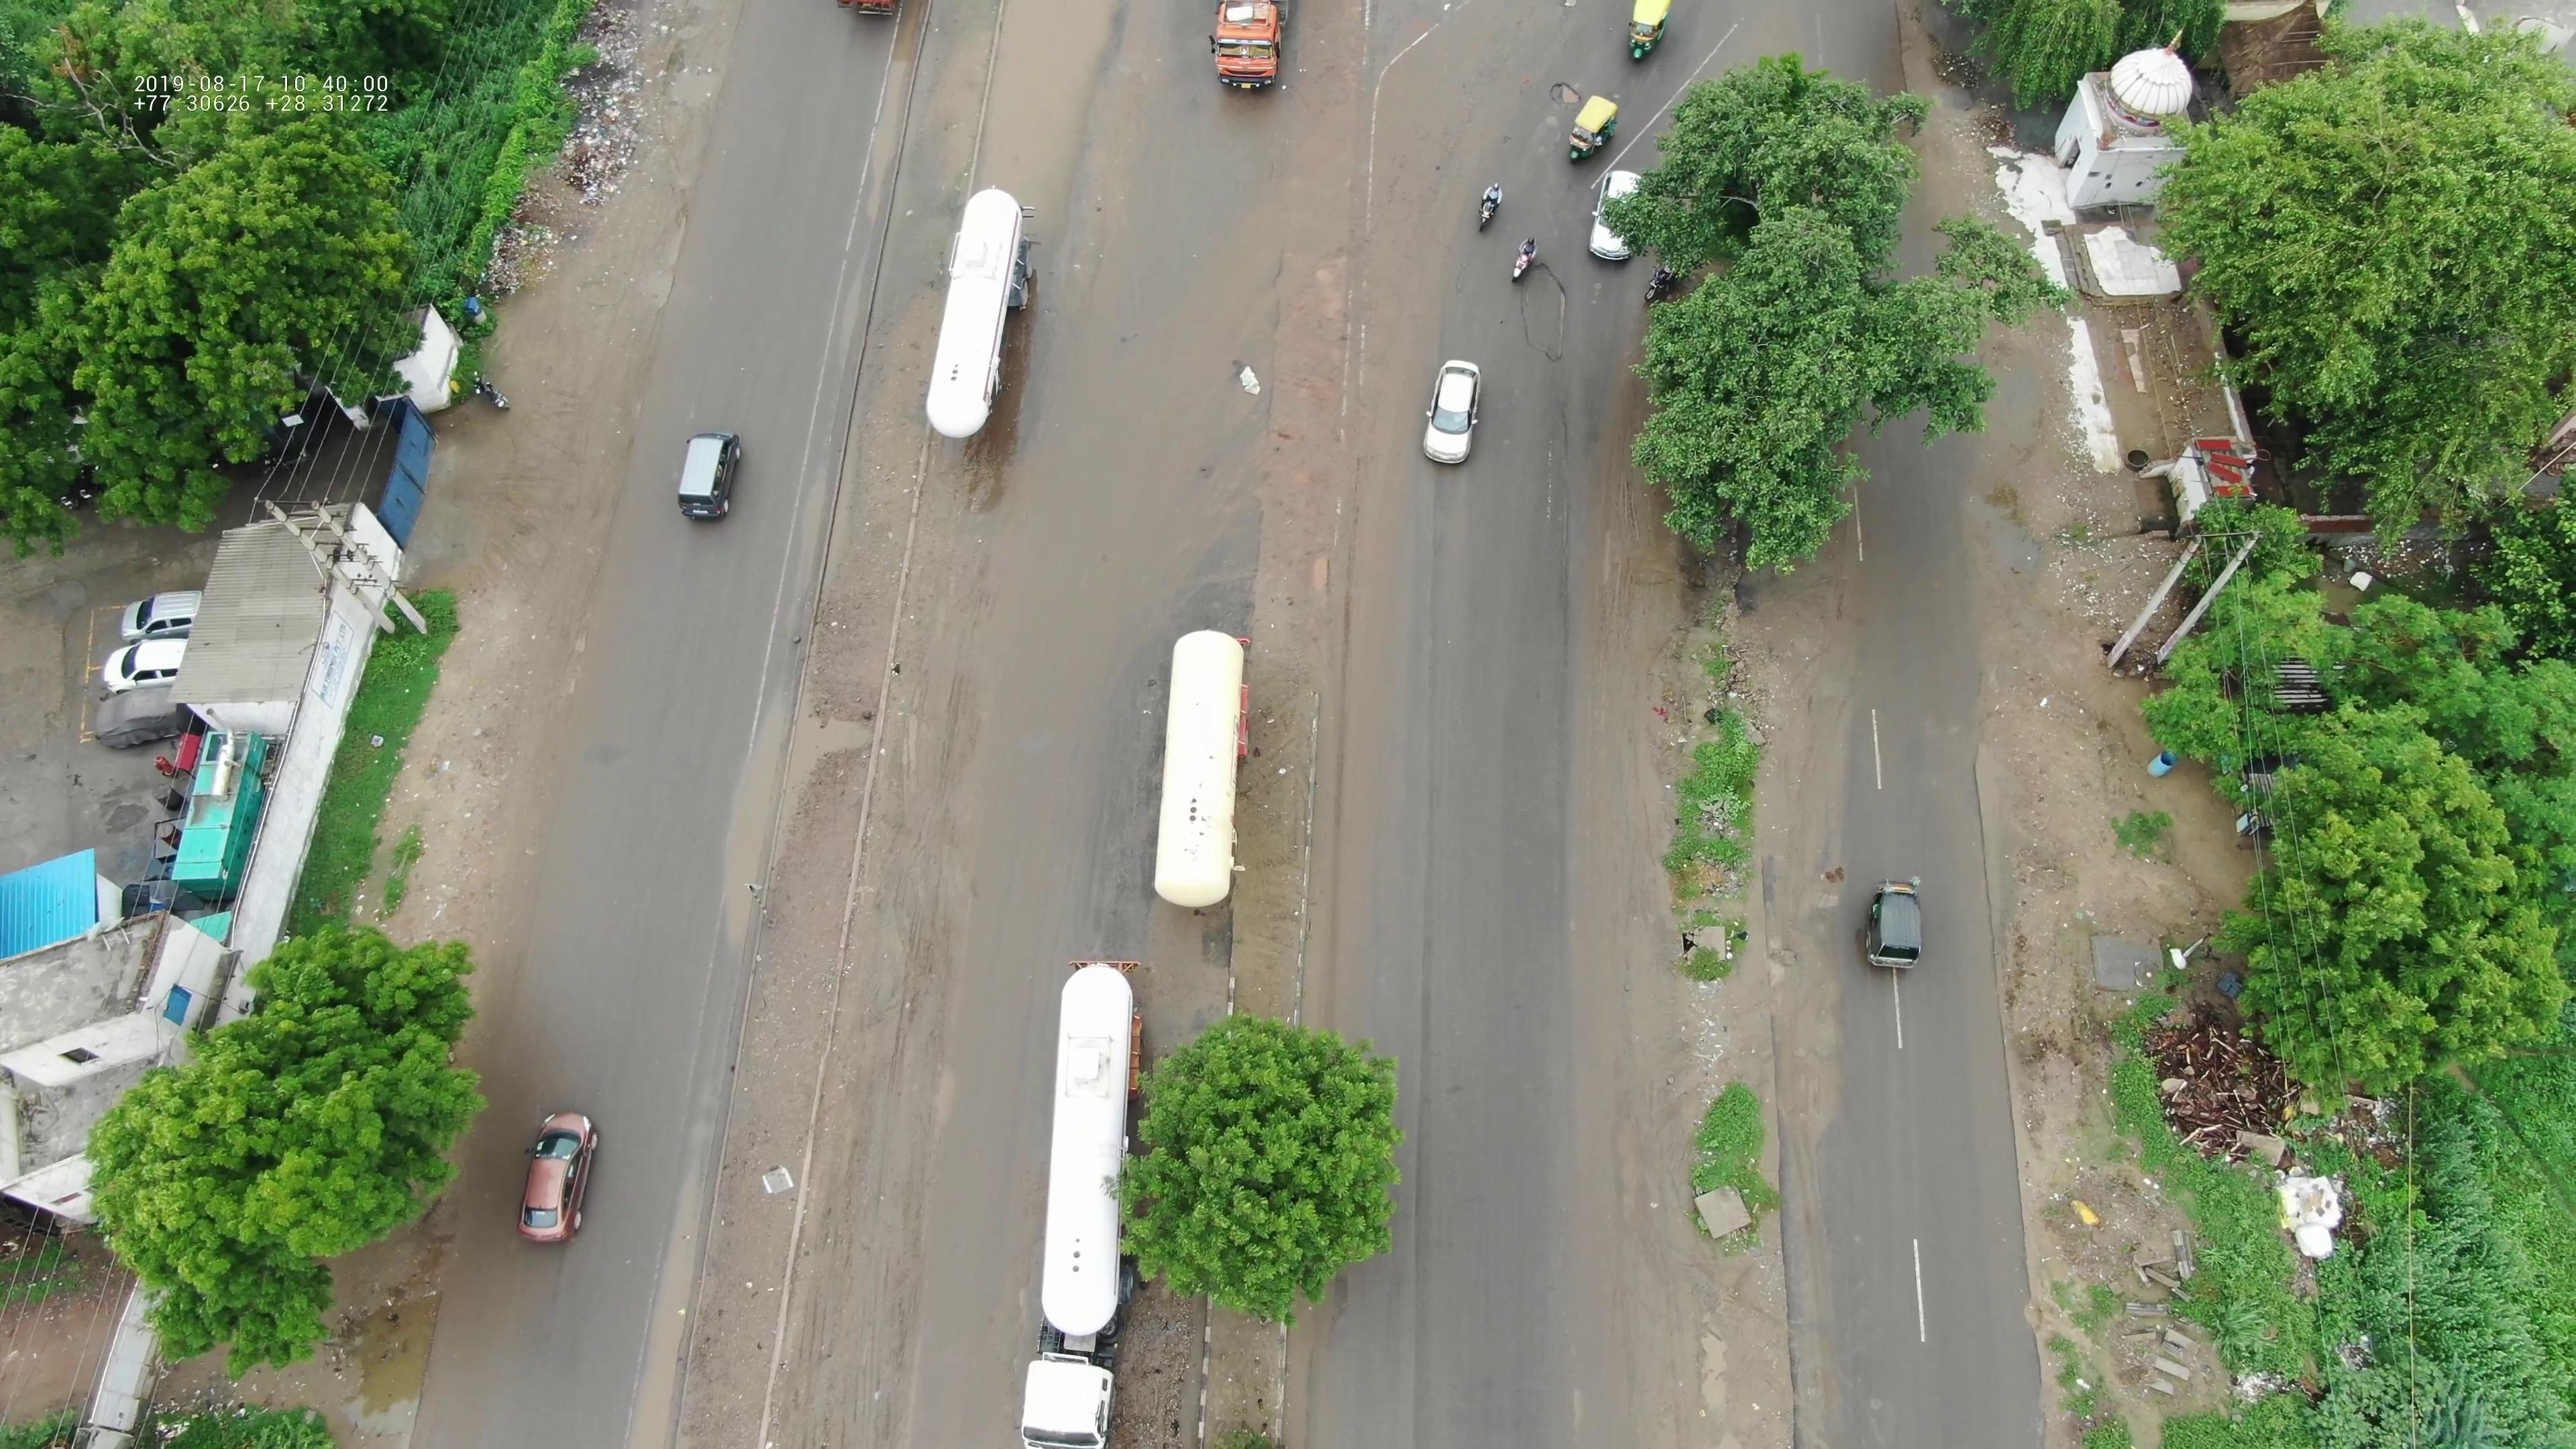Muddy_road: (835, 830, 964, 1139), (778, 1143, 922, 1408), (1583, 464, 1684, 839), (1591, 886, 1693, 1237), (902, 481, 1007, 800), (1737, 538, 1845, 814)
Potholes: (1274, 235, 1352, 419), (1679, 1286, 1744, 1419)
Waterlogging: (695, 671, 835, 950)
